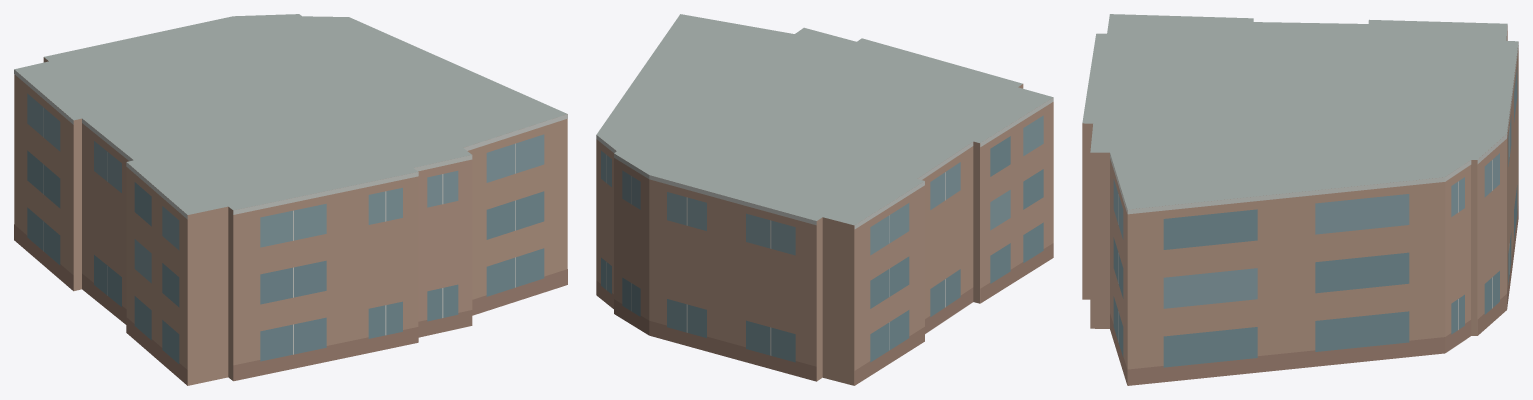
Rendered from survey-upis-33017171.glb.
3 renders of one model, left to right at view 1: azimuth 30°, elevation 25°; view 2: azimuth 150°, elevation 25°; view 3: azimuth 270°, elevation 25°, orthographic. The views are drawn at different scales.
Parts seen in each view (by area): view 1: survey-upis-33017171.tmp; view 2: survey-upis-33017171.tmp; view 3: survey-upis-33017171.tmp.
Boxes of the visible parts, <box> form: survey-upis-33017171.tmp: <box>14,14,567,385</box>; survey-upis-33017171.tmp: <box>596,14,1053,385</box>; survey-upis-33017171.tmp: <box>1082,14,1518,385</box>.
Bounding box in the file's own units: 21.8 × 9.15 × 20.54.
